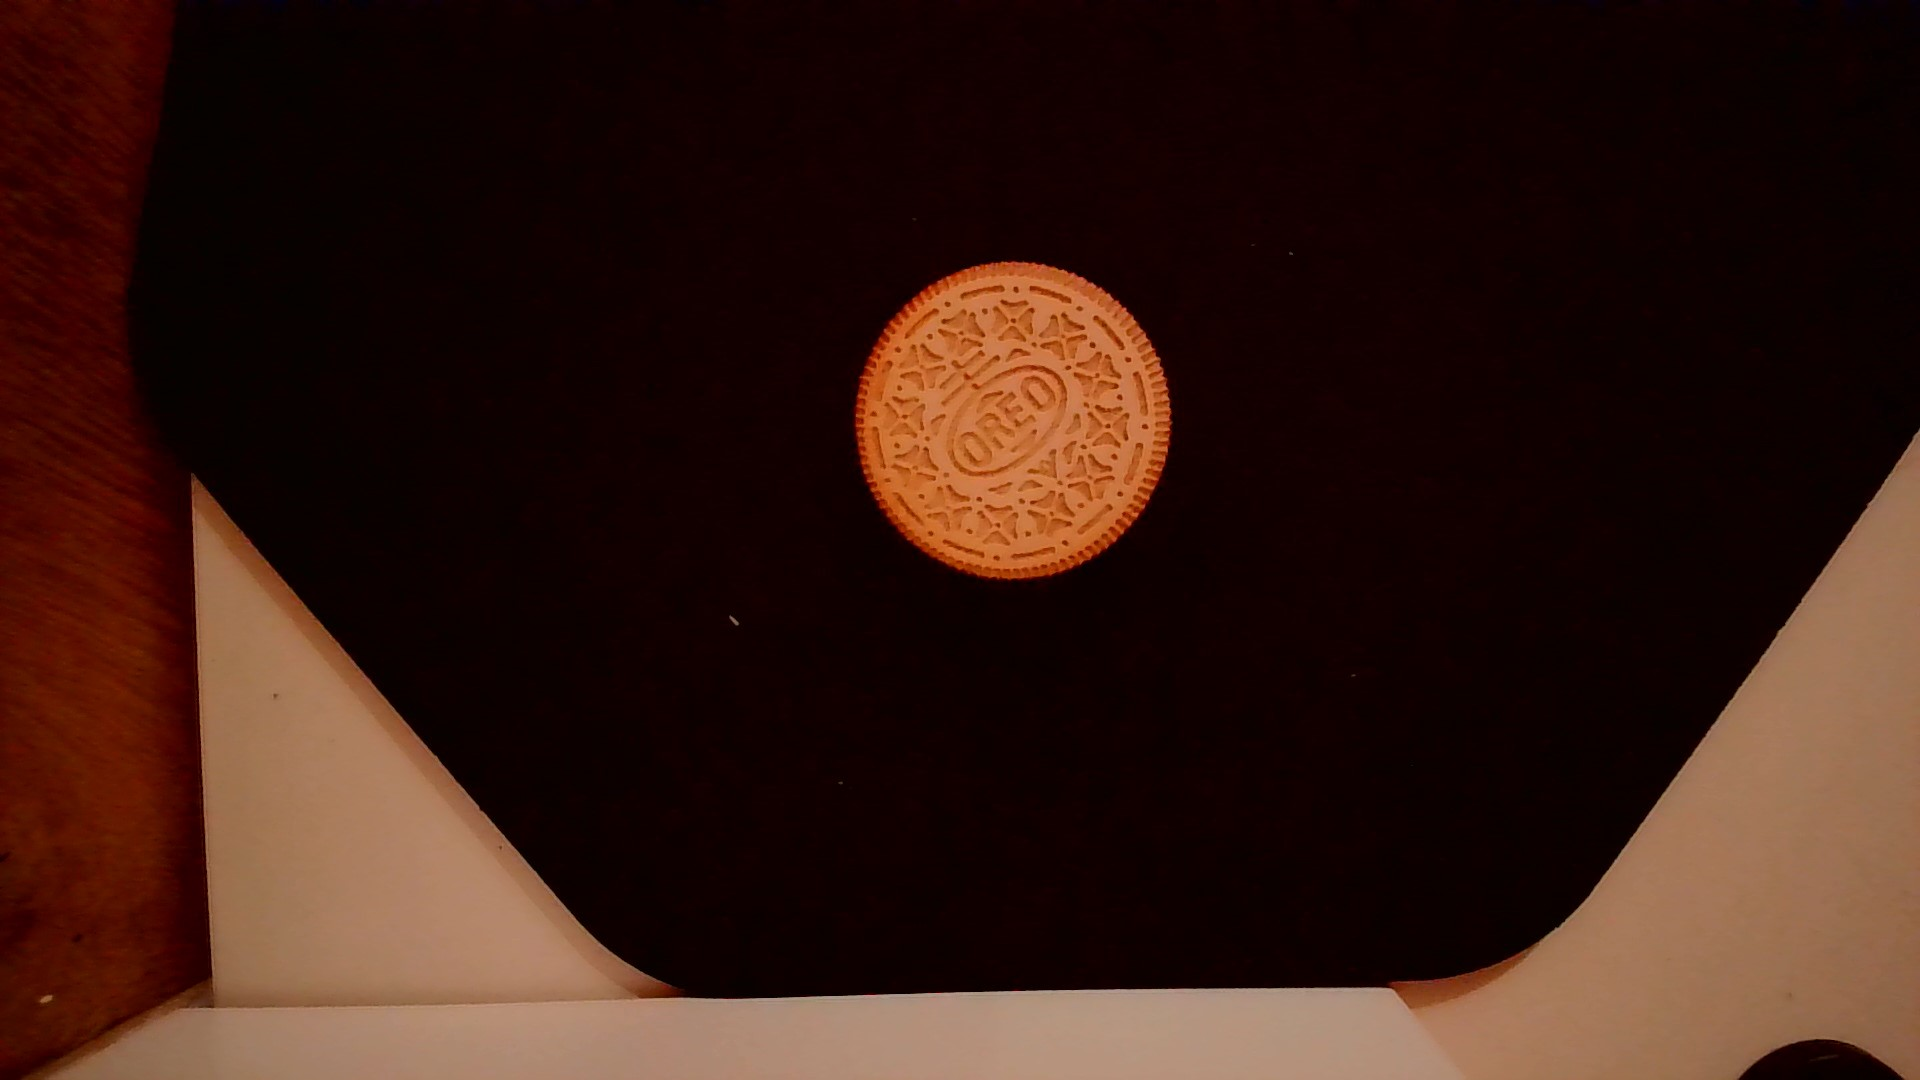Oréo: (847, 249, 1179, 591)
